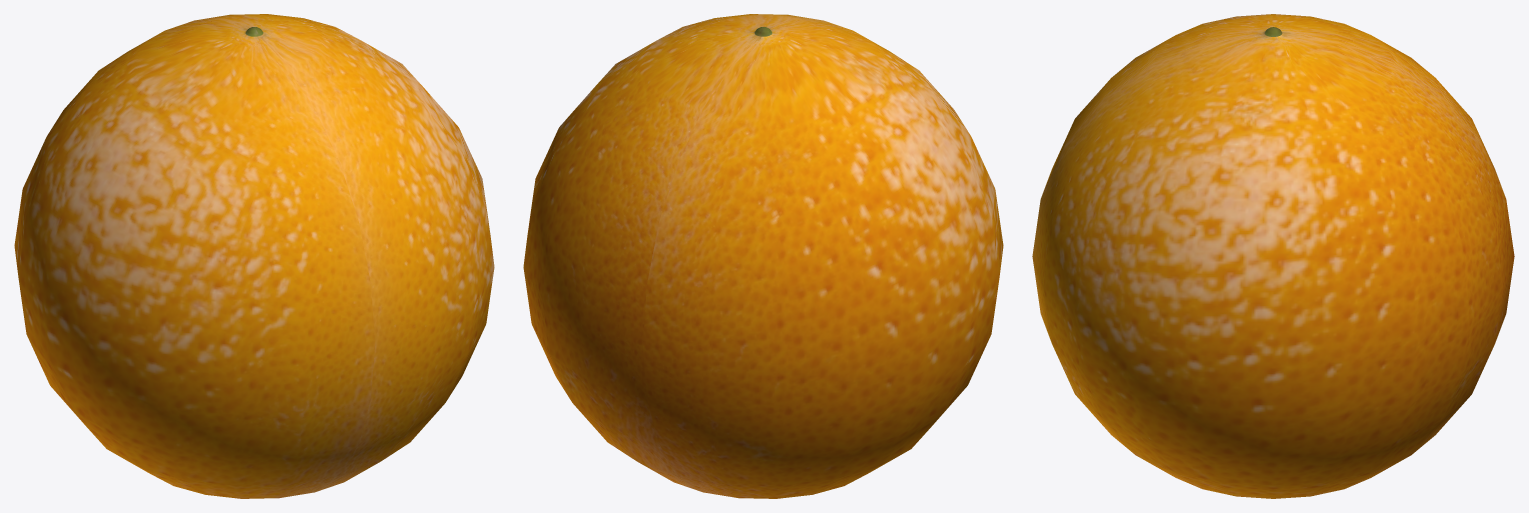
Rendered from orange.fbx.
3 renders of one model, left to right at view 1: azimuth 30°, elevation 25°; view 2: azimuth 150°, elevation 25°; view 3: azimuth 270°, elevation 25°, orthographic.
Parts seen in each view (by area): view 1: Sphere; view 2: Sphere; view 3: Sphere.
Part boxes in pixels (x1,y1,x2,y2): Sphere: (14,14,494,498); Sphere: (523,14,1003,498); Sphere: (1032,14,1514,498).
Size of the model in its own units: 196 by 201 by 196.
